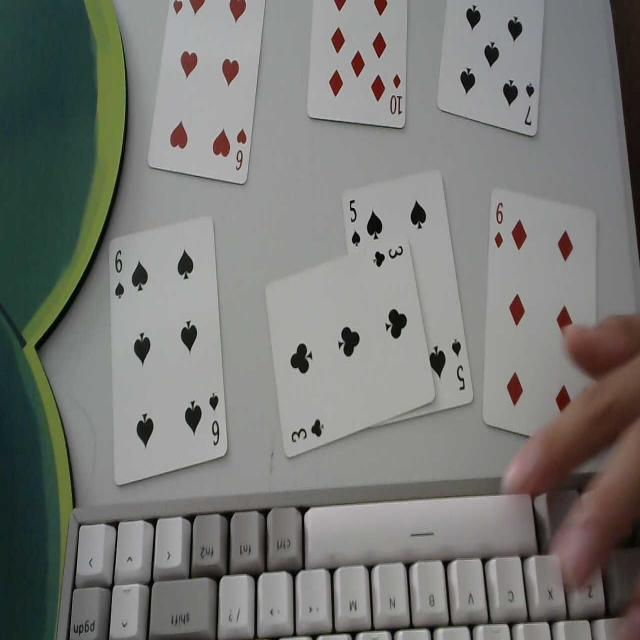10D: (388, 66, 406, 122)
3C: (288, 415, 328, 447), (371, 238, 405, 271)
5S: (448, 336, 470, 400), (346, 194, 364, 250)
6D: (492, 191, 506, 254)
6H: (233, 114, 253, 178)
6S: (206, 388, 223, 452), (110, 245, 126, 303)
7S: (520, 77, 538, 132)
